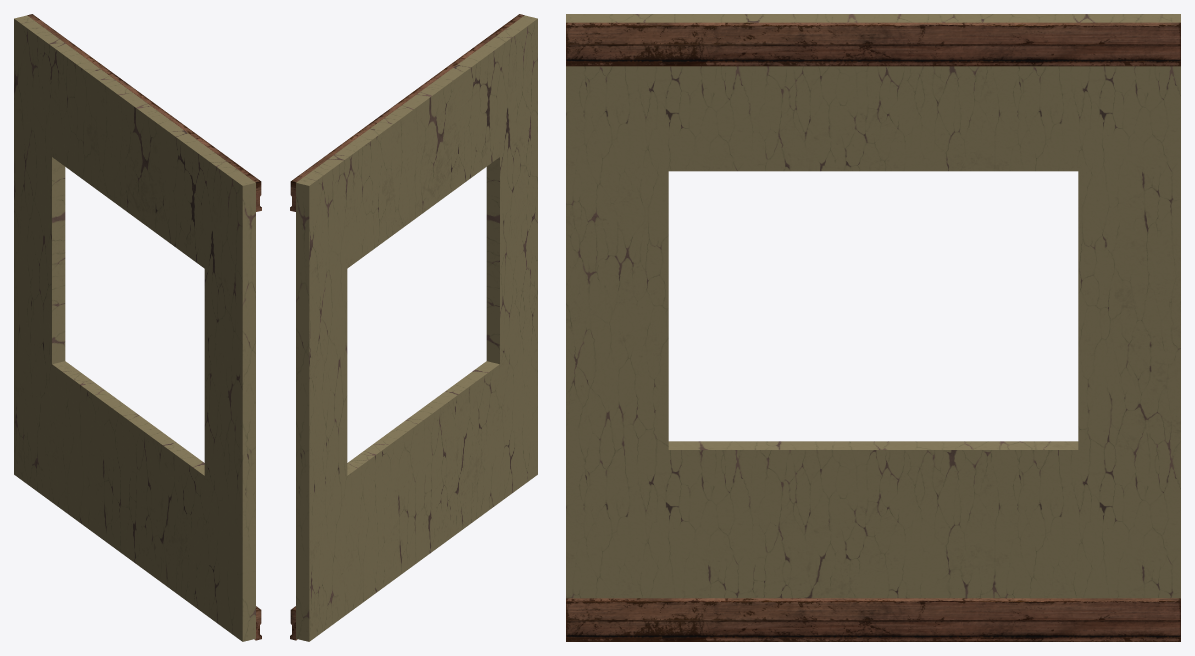
Rendered from Wall_Window_3m_C.fbx.
3 renders of one model, left to right at view 1: azimuth 30°, elevation 25°; view 2: azimuth 150°, elevation 25°; view 3: azimuth 270°, elevation 25°, orthographic. The views are drawn at different scales.
Parts seen in each view (by area): view 1: Wall_Window_3m_A.001; view 2: Wall_Window_3m_A.001; view 3: Wall_Window_3m_A.001.
Boxes of the visible parts, x1,y1,x2,y2 form: Wall_Window_3m_A.001: (14, 14, 261, 641); Wall_Window_3m_A.001: (290, 14, 537, 641); Wall_Window_3m_A.001: (566, 14, 1180, 641).
Size of the model in its own units: 0.1458 by 3.31 by 3.
